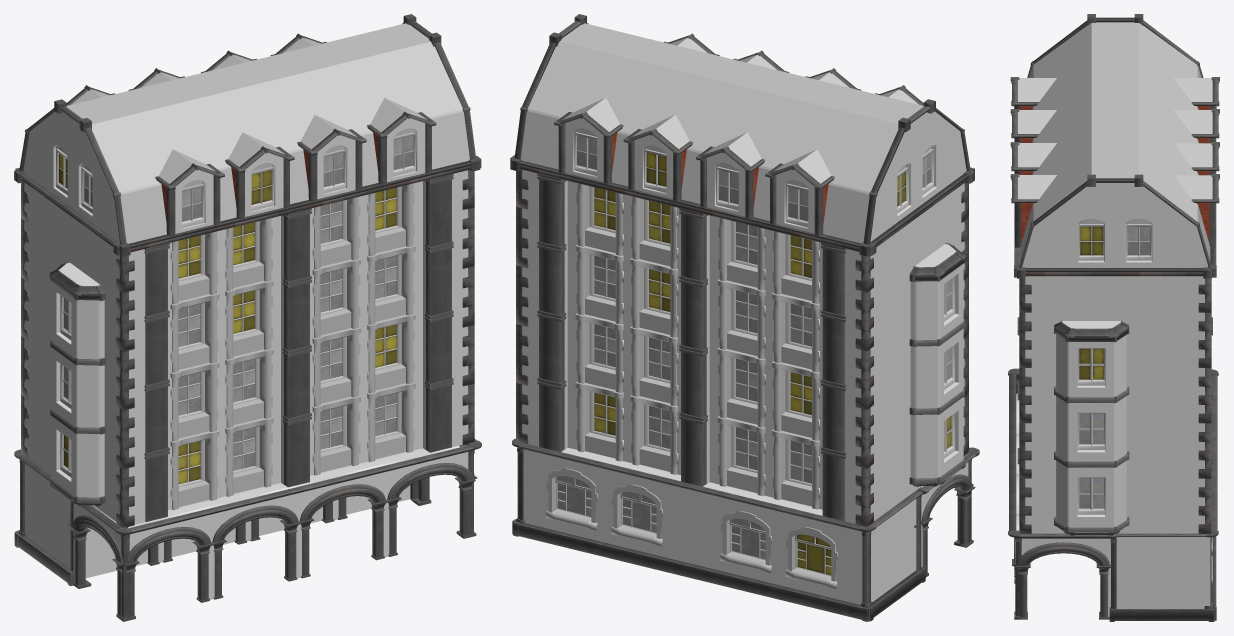
Rendered from Building_04.fbx.
3 renders of one model, left to right at view 1: azimuth 30°, elevation 25°; view 2: azimuth 150°, elevation 25°; view 3: azimuth 270°, elevation 25°, orthographic. The views are drawn at different scales.
Visible parts, largest first — view 1: Wall_01.002, Roof_01.005, Base_01.001, Wall_02.002, Wall_02_Windows, Wall_Roof_02, Trim_01.003, Trim_02.004, Roof_02.003, Trim_03.003; view 2: Wall_04, Roof_02.003, Base_02.001, Wall_02.002, Wall_02_Windows, Roof_01.005, Wall_Roof_02, Trim_03.003, Base_01.001, Trim_04.005, Trim_01.003; view 3: Wall_03.003, Roof_01.005, Wall_03_Windows, Roof_02.003, Wall_Roof_01, Base_01.001, Trim_04.005, Trim_02.004, Base_02.001.
Part boxes in pixels (left/top/right/bottom): Wall_01.002: left=129, top=170, right=468, bottom=524; Roof_01.005: left=60, top=21, right=480, bottom=256; Base_01.001: left=68, top=439, right=481, bottom=621; Wall_02.002: left=14, top=183, right=119, bottom=586; Wall_02_Windows: left=49, top=261, right=105, bottom=506; Wall_Roof_02: left=14, top=111, right=120, bottom=255; Trim_01.003: left=116, top=255, right=134, bottom=527; Trim_02.004: left=462, top=170, right=474, bottom=445; Roof_02.003: left=15, top=14, right=416, bottom=172; Trim_03.003: left=21, top=182, right=28, bottom=458; Wall_04: left=522, top=170, right=861, bottom=523; Roof_02.003: left=510, top=32, right=910, bottom=256; Base_02.001: left=512, top=443, right=869, bottom=621; Wall_02.002: left=859, top=183, right=964, bottom=621; Wall_02_Windows: left=909, top=243, right=965, bottom=486; Roof_01.005: left=559, top=14, right=974, bottom=172; Wall_Roof_02: left=869, top=111, right=974, bottom=255; Trim_03.003: left=855, top=255, right=873, bottom=526; Base_01.001: left=914, top=447, right=979, bottom=577; Trim_04.005: left=516, top=169, right=528, bottom=444; Trim_01.003: left=961, top=182, right=968, bottom=456; Wall_03.003: left=1025, top=276, right=1218, bottom=621; Roof_01.005: left=1010, top=14, right=1138, bottom=277; Wall_03_Windows: left=1054, top=320, right=1129, bottom=535; Roof_02.003: left=1134, top=14, right=1219, bottom=277; Wall_Roof_01: left=1017, top=183, right=1211, bottom=278; Base_01.001: left=1008, top=368, right=1116, bottom=619; Trim_04.005: left=1198, top=278, right=1211, bottom=533; Trim_02.004: left=1019, top=278, right=1031, bottom=533; Base_02.001: left=1210, top=374, right=1217, bottom=621.
Size of what is drawn, in the model's own units: 18.2 by 20.63 by 8.92.
